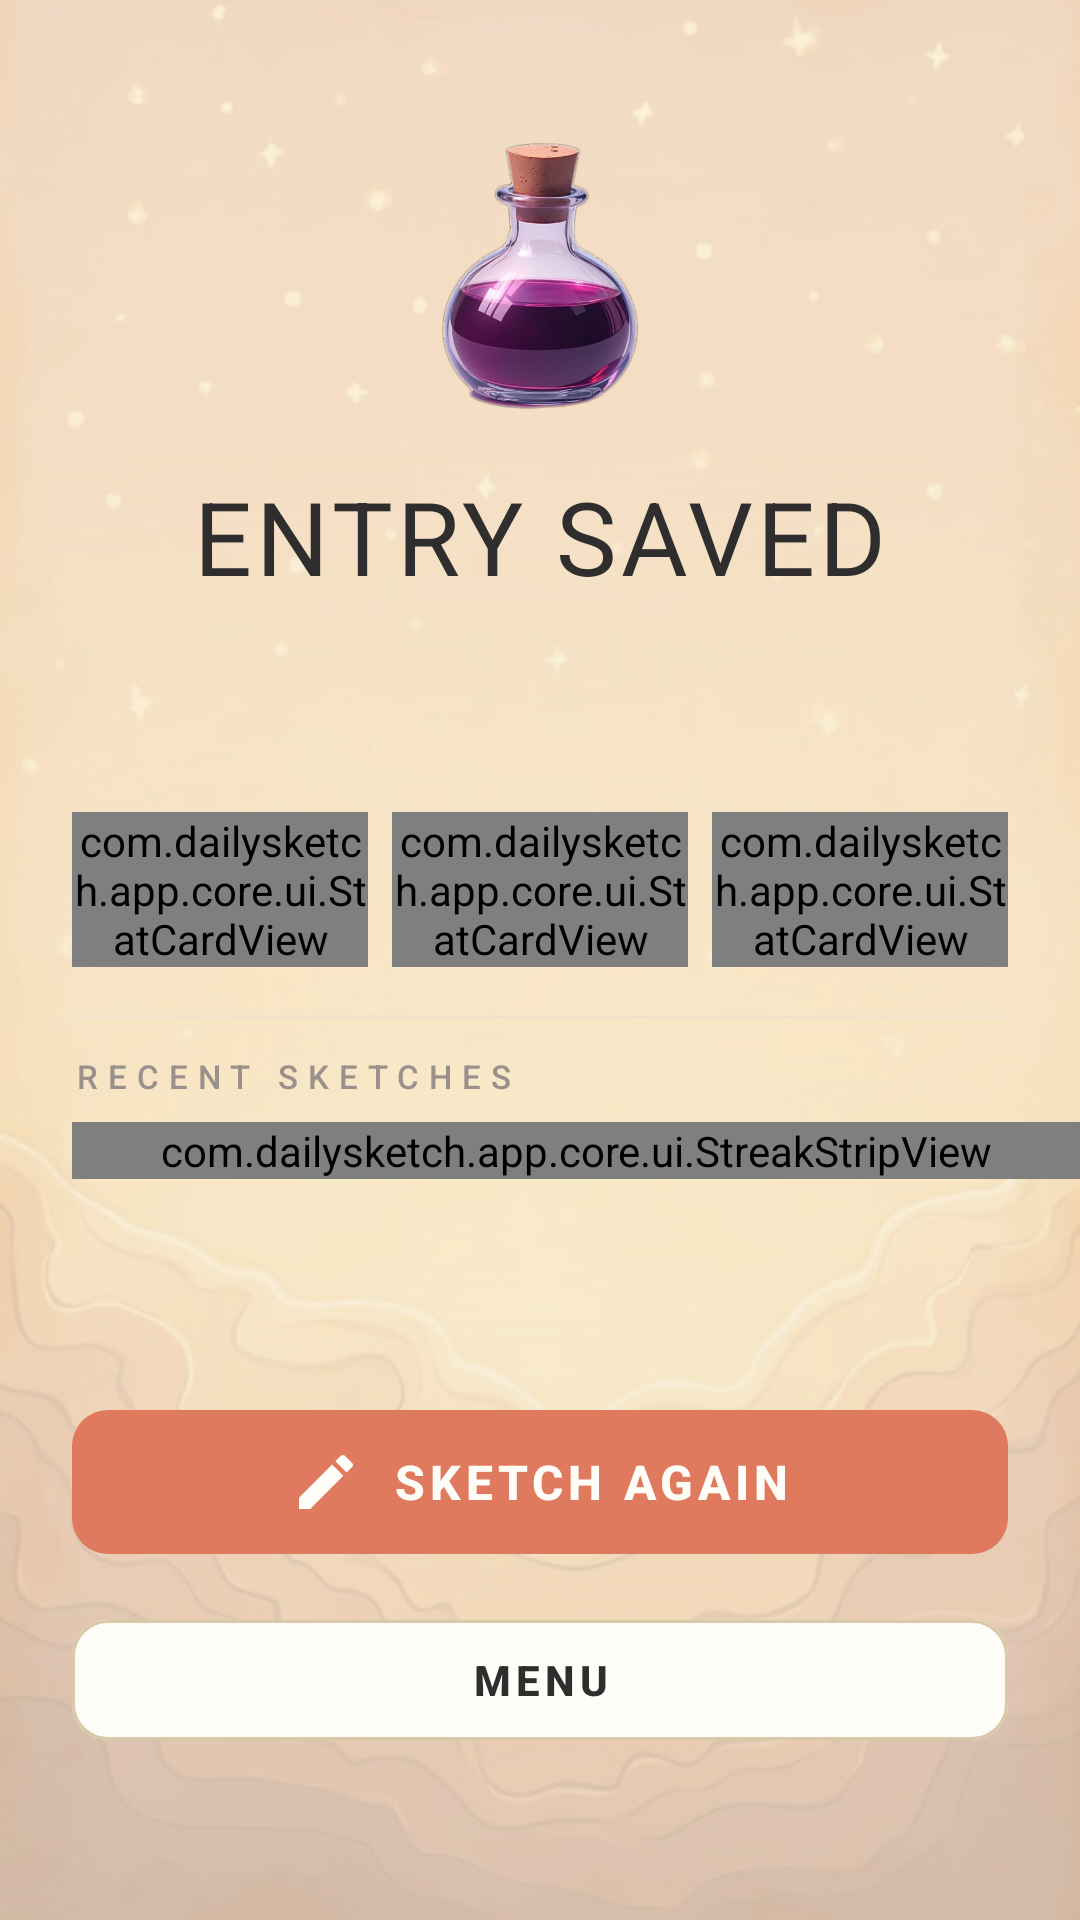

Where icons sit on this 1080 x 1920 app screen, as (x1, y1, x2, y2):
Ink bottle illustration: (442, 143, 638, 409)
